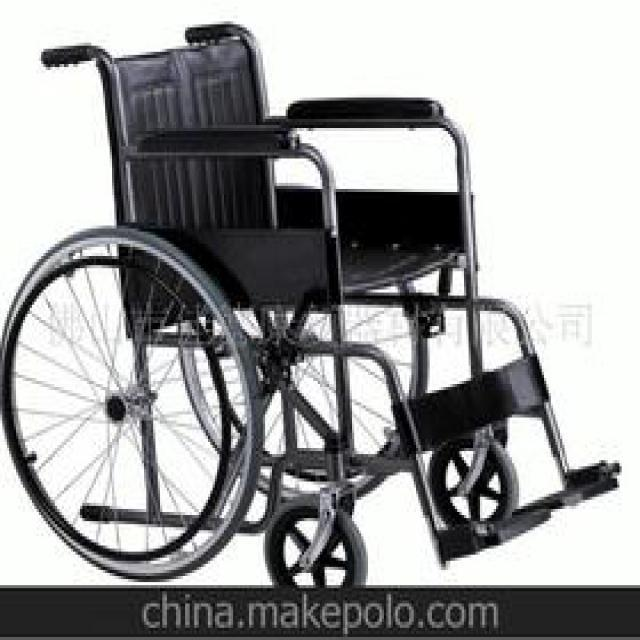wheelchair: (7, 18, 624, 576)
